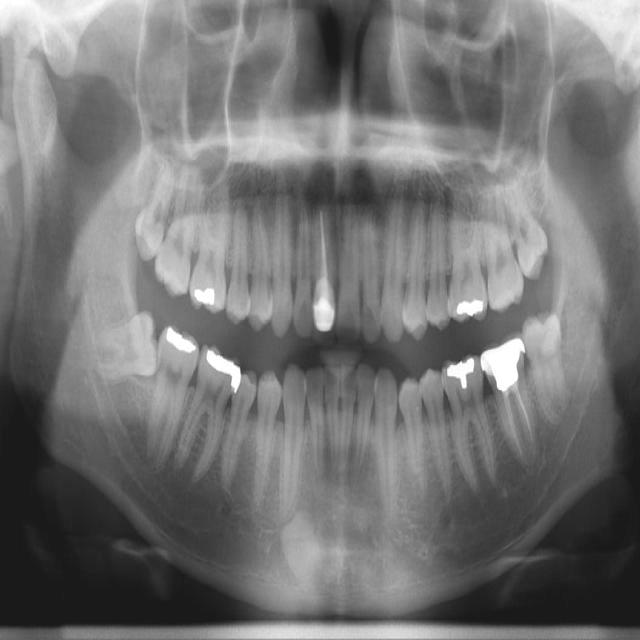Crown: (480, 331, 526, 392), (311, 280, 337, 341)
Filling: (198, 350, 243, 393), (443, 357, 479, 393), (165, 326, 196, 355), (191, 285, 218, 306), (456, 298, 484, 318)
Root Canal Treatment: (504, 390, 524, 461), (513, 389, 531, 447), (321, 213, 326, 281)
impacted tooth: (522, 312, 573, 420), (90, 313, 157, 384), (134, 155, 172, 257)
